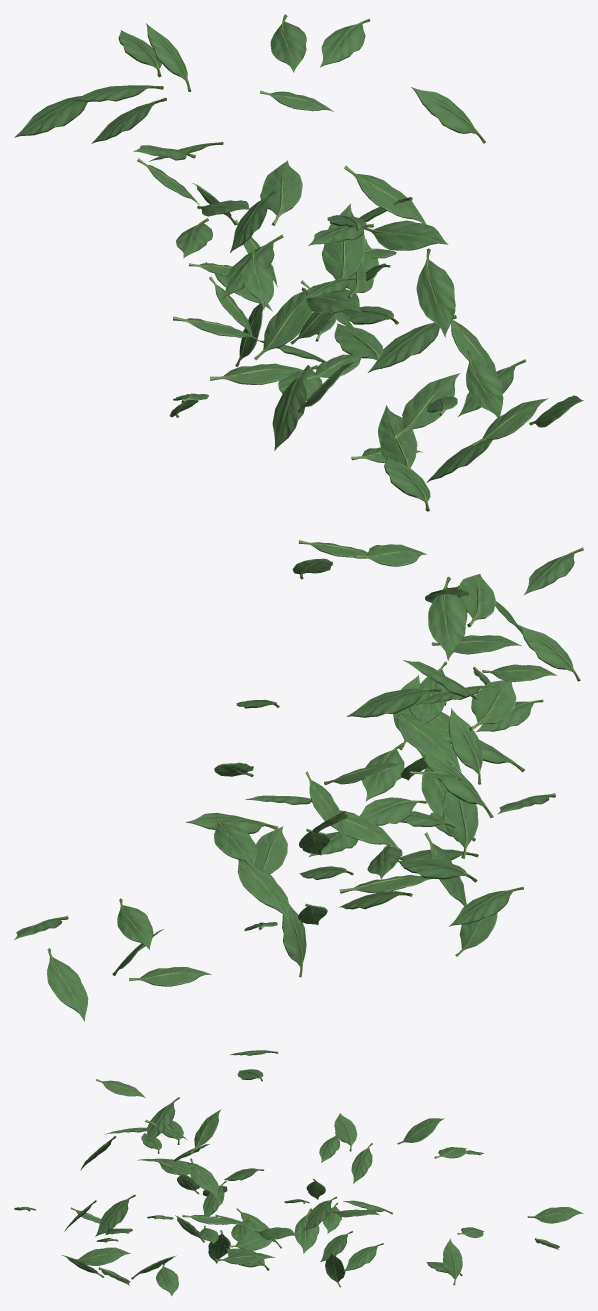
The model's file is holy_canopy5_complete.glb.
The picture shows the model from 3 angles, top to bottom: view 1: azimuth 30°, elevation 25°; view 2: azimuth 150°, elevation 25°; view 3: azimuth 270°, elevation 25°; orthographic projection. The views are drawn at different scales.
Visible parts, largest first — view 1: holy_canopy5; view 2: holy_canopy5; view 3: holy_canopy5.
Part boxes in pixels (left/top/right/bottom): holy_canopy5: left=14, top=14, right=583, bottom=511; holy_canopy5: left=14, top=540, right=583, bottom=1021; holy_canopy5: left=14, top=1050, right=583, bottom=1296.
Bounding box in the file's own units: 8.39 × 11.8 × 26.01.
Materials: 1 (1 with a texture image).
